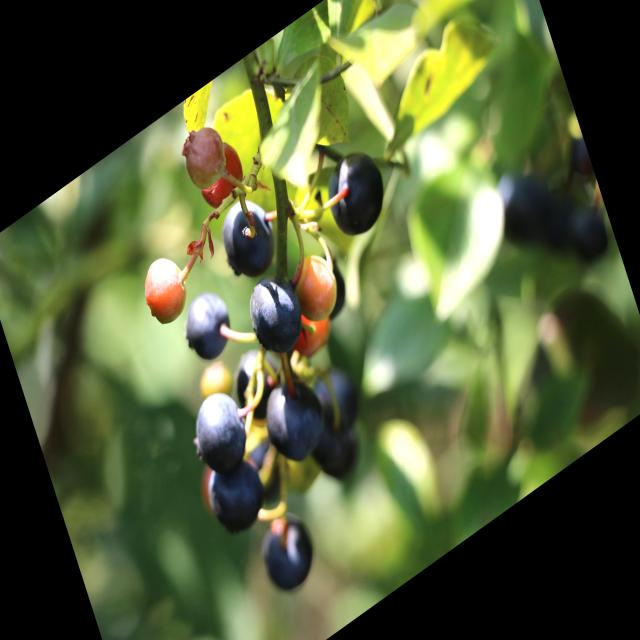blueberry: (210, 182, 286, 295), (249, 494, 323, 606), (318, 138, 392, 250), (239, 258, 312, 369), (200, 442, 275, 550), (258, 365, 331, 474), (185, 376, 258, 484), (226, 330, 289, 426), (307, 348, 366, 443), (180, 280, 238, 366)
blueberry-halfripe: (289, 246, 348, 338), (190, 136, 252, 220), (137, 246, 193, 332), (177, 119, 230, 192)
